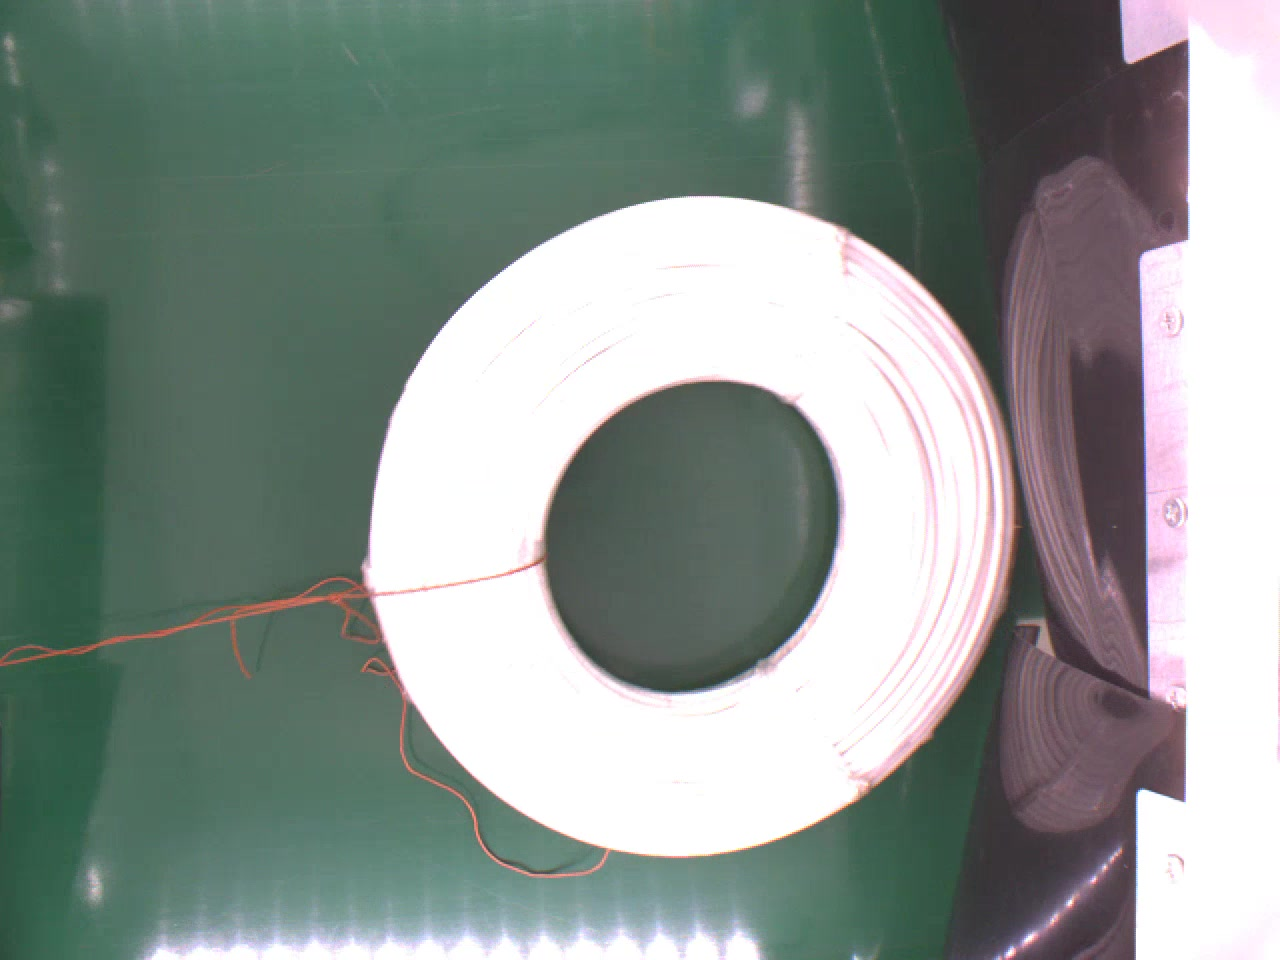white: (359, 192, 1024, 856)
